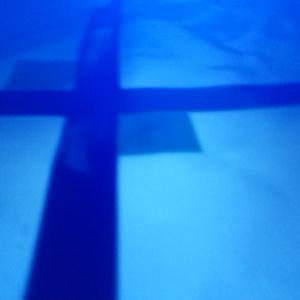bottom_left: (8, 61, 118, 116)
bottom_right: (65, 88, 202, 152)
